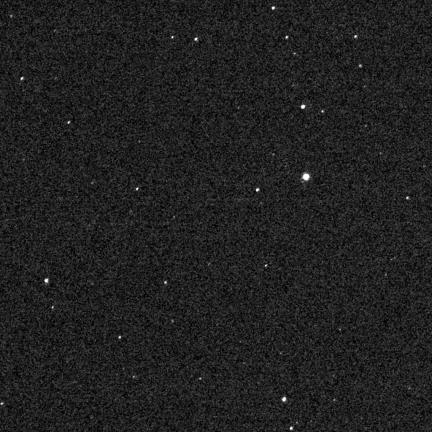blob: (303, 173, 309, 180), (359, 64, 363, 69), (256, 188, 260, 193), (282, 397, 286, 402), (68, 121, 72, 125), (301, 105, 305, 109), (321, 110, 325, 114), (286, 36, 289, 40), (52, 306, 55, 310), (164, 281, 167, 285), (406, 197, 410, 200), (272, 6, 275, 10), (45, 279, 48, 283), (21, 77, 24, 80), (265, 265, 268, 268), (290, 427, 293, 430), (172, 36, 175, 39), (354, 36, 358, 38), (136, 188, 139, 190), (119, 336, 121, 339), (195, 38, 197, 41)
